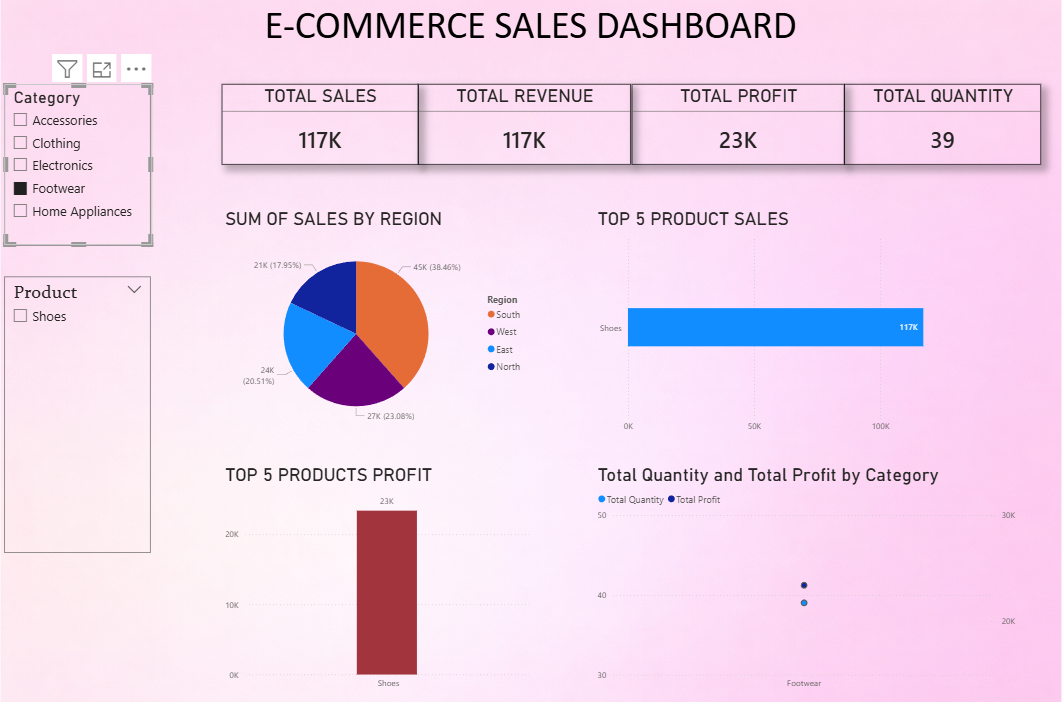

This screenshot's page, from the dashboard's own definition file:
{"tool":"powerbi","page":{"name":"Page 1","canvas":[1920,1080],"ordinal":0},"visuals":[{"type":"textbox","box":[198,28,1524,84],"z":0},{"type":"slicer","fields":{"Values":["Sheet1.Category"]},"box":[198,152,212,234],"z":1},{"type":"slicer","fields":{"Values":["Sheet1.Product"]},"box":[198,430,212,400],"z":2},{"type":"pieChart","title":"SUM OF SALES BY REGION","fields":{"Category":["Sheet1.Region"],"Y":["Sum(Sheet1.Sales)"]},"box":[511.7,331.7,453.3,335],"z":3},{"type":"cardVisual","title":"TOTAL SALES","fields":{"Data":["Sheet1.Total Sales"]},"box":[511.7,151.7,285,116.7],"z":4},{"type":"cardVisual","title":"TOTAL REVENUE","fields":{"Data":["Sheet1.Total Revenue"]},"box":[796.7,151.7,308.3,116.7],"z":5},{"type":"cardVisual","title":"TOTAL QUANTITY","fields":{"Data":["Sheet1.Total Quantity"]},"box":[1413.3,151.7,285,116.7],"z":6},{"type":"cardVisual","title":"TOTAL PROFIT","fields":{"Data":["Sheet1.Total Profit"]},"box":[1105,151.7,308.3,116.7],"z":7},{"type":"clusteredBarChart","title":"TOP 5 PRODUCT SALES","fields":{"Category":["Sheet1.Product"],"Y":["Sheet1.Total Sales"]},"box":[1051.7,331.7,528.3,335],"z":8},{"type":"clusteredColumnChart","title":"TOP 5 PRODUCTS PROFIT","fields":{"Category":["Sheet1.Product"],"Y":["Sheet1.Total Profit"]},"box":[511.7,701.7,453.3,335],"z":9},{"type":"lineChart","fields":{"Category":["Sheet1.Category"],"Y2":["Sheet1.Total Profit"],"Y":["Sheet1.Total Quantity"]},"box":[1051.7,701.7,615,335],"z":10}]}

Visuals, with their boxes on the page's 1920x1080 design canvas (x1, y1, x2, y2). These are canvas units, not pixel positions in the 1063x702 screenshot, which may show the page scaled, cropped or inside an application window:
textbox: BBox(198, 28, 1722, 112)
slicer - Sheet1.Category: BBox(198, 152, 410, 386)
slicer - Sheet1.Product: BBox(198, 430, 410, 830)
"SUM OF SALES BY REGION" pieChart: BBox(512, 332, 965, 667)
"TOTAL SALES" cardVisual: BBox(512, 152, 797, 268)
"TOTAL REVENUE" cardVisual: BBox(797, 152, 1105, 268)
"TOTAL QUANTITY" cardVisual: BBox(1413, 152, 1698, 268)
"TOTAL PROFIT" cardVisual: BBox(1105, 152, 1413, 268)
"TOP 5 PRODUCT SALES" clusteredBarChart: BBox(1052, 332, 1580, 667)
"TOP 5 PRODUCTS PROFIT" clusteredColumnChart: BBox(512, 702, 965, 1037)
lineChart - Sheet1.Category x Sheet1.Total Profit: BBox(1052, 702, 1667, 1037)
